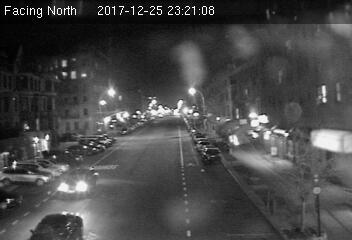car: (59, 167, 98, 197)
